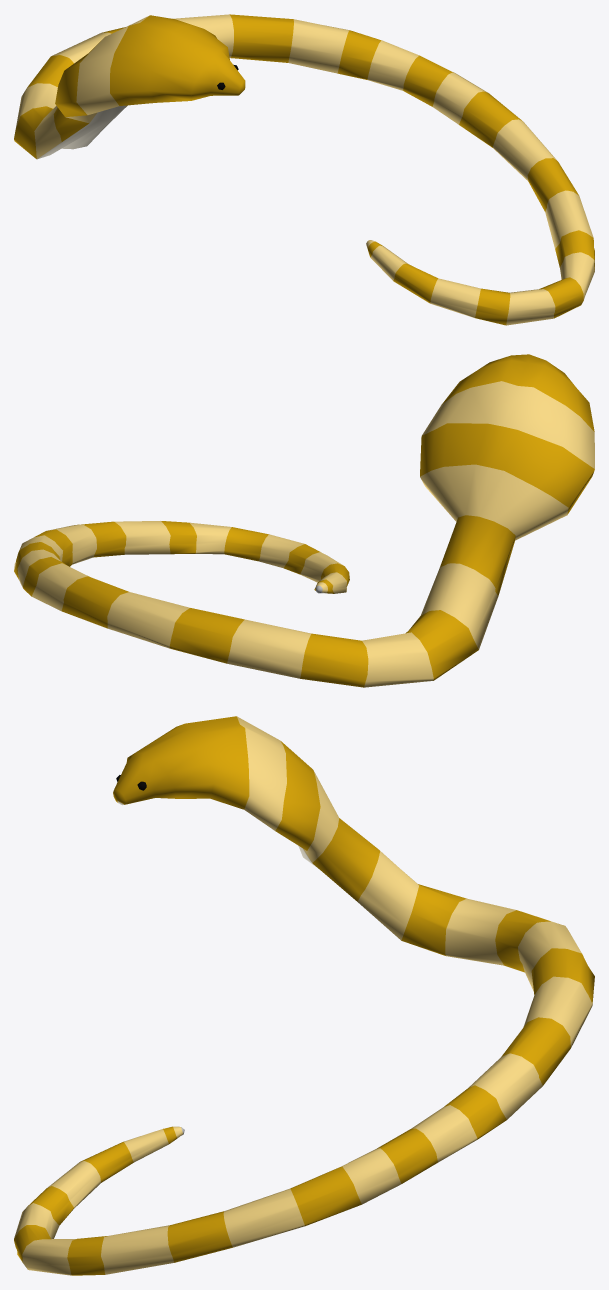
Rendered from snake.glb.
3 views of the same model, one above another, from view 1: azimuth 30°, elevation 25°; view 2: azimuth 150°, elevation 25°; view 3: azimuth 270°, elevation 25° (orthographic). The views are drawn at different scales.
Visible parts, largest first — view 1: Platonic.2; view 2: Platonic.2; view 3: Platonic.2.
Boxes of the visible parts, x1,y1,x2,y2 form: Platonic.2: (14,14,594,325); Platonic.2: (14,354,594,687); Platonic.2: (14,716,594,1275).
Size of the model in its own units: 2.57 by 1.57 by 2.32.
